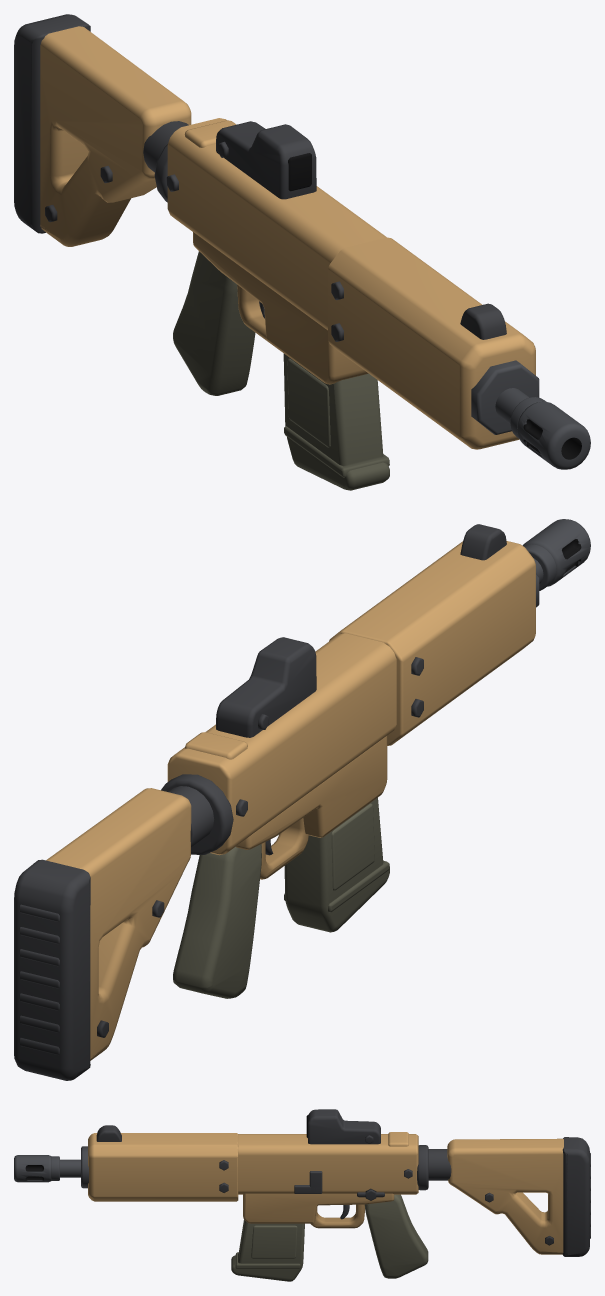
The model's file is assault_rifle.glb.
3 renders of one model, top to bottom at view 1: azimuth 30°, elevation 25°; view 2: azimuth 150°, elevation 25°; view 3: azimuth 270°, elevation 25°, orthographic. The views are drawn at different scales.
Parts seen in each view (by area): view 1: receiver_and_handguard, stock, magazine, grip, barrel_and_muzzle, sight; view 2: receiver_and_handguard, stock, grip, magazine, sight, barrel_and_muzzle; view 3: receiver_and_handguard, stock, magazine, grip, sight, barrel_and_muzzle.
Boxes of the visible parts, <box> form: receiver_and_handguard: <box>166,118,535,449</box>; stock: <box>14,14,191,246</box>; magazine: <box>283,353,389,490</box>; grip: <box>173,251,255,395</box>; barrel_and_muzzle: <box>471,360,590,469</box>; sight: <box>216,121,506,339</box>; receiver_and_handguard: <box>167,541,535,879</box>; stock: <box>14,774,233,1080</box>; grip: <box>173,844,261,998</box>; magazine: <box>284,797,389,932</box>; sight: <box>216,524,506,737</box>; barrel_and_muzzle: <box>522,519,590,607</box>; receiver_and_handguard: <box>88,1132,418,1228</box>; stock: <box>417,1137,590,1256</box>; magazine: <box>231,1219,304,1281</box>; grip: <box>364,1194,428,1278</box>; sight: <box>96,1109,380,1144</box>; barrel_and_muzzle: <box>14,1146,88,1188</box>.
Size of the model in its own units: 0.079 by 0.2683 by 0.8515.
